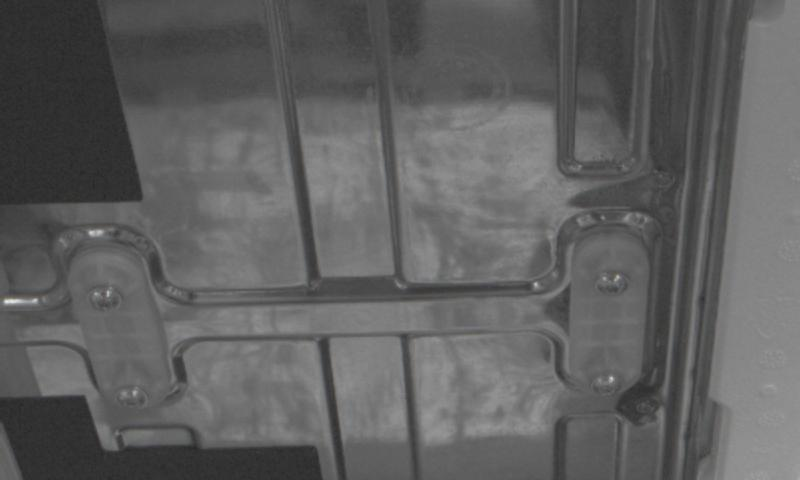vida-ok: (590, 257, 633, 302), (85, 277, 125, 322), (114, 376, 157, 416), (583, 368, 623, 407)
